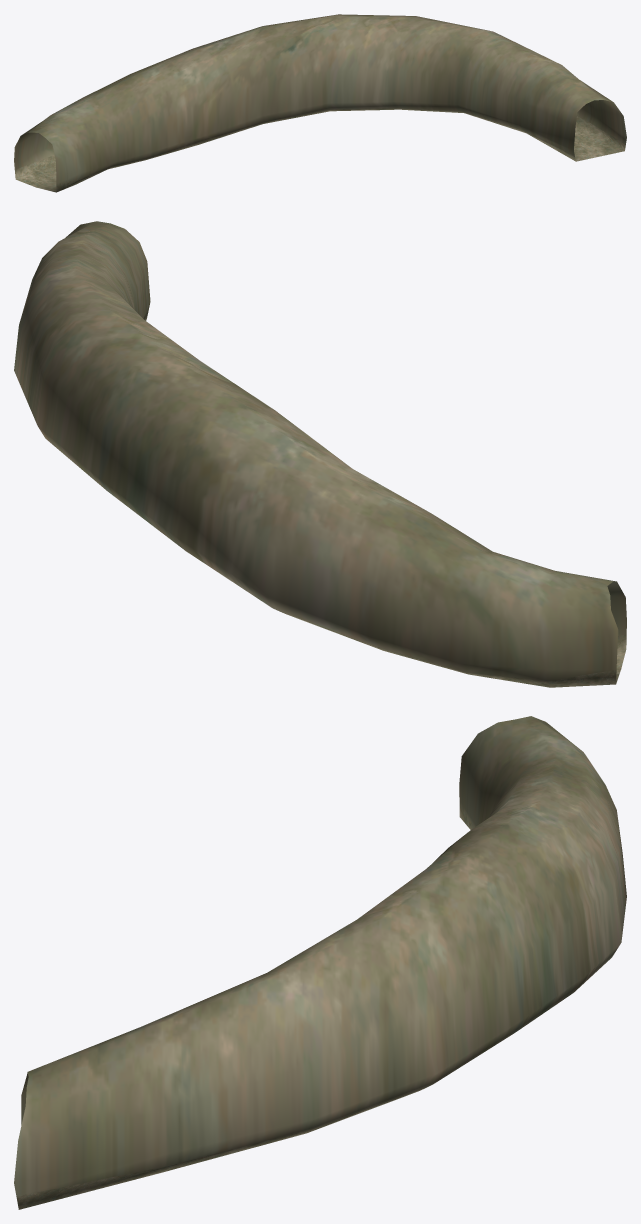
File: EKH_GROTTO_PS_GR_LINE169.fbx
3 views of the same model, one above another, from view 1: azimuth 30°, elevation 25°; view 2: azimuth 150°, elevation 25°; view 3: azimuth 270°, elevation 25° (orthographic). The views are drawn at different scales.
Parts seen in each view (by area): view 1: EKH_GROTTO_PS_GR_LINE169; view 2: EKH_GROTTO_PS_GR_LINE169; view 3: EKH_GROTTO_PS_GR_LINE169.
Boxes of the visible parts, x1,y1,x2,y2 form: EKH_GROTTO_PS_GR_LINE169: (14,14,626,192); EKH_GROTTO_PS_GR_LINE169: (14,221,626,687); EKH_GROTTO_PS_GR_LINE169: (14,716,626,1209).
Bounding box in the file's own units: 197128 × 45612 × 116047.
Materials: 1 (1 with a texture image).
